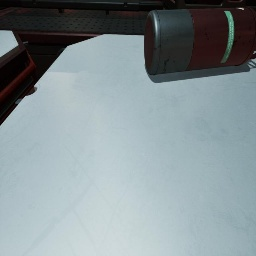NitrogenTank ,: (144, 7, 256, 76)
